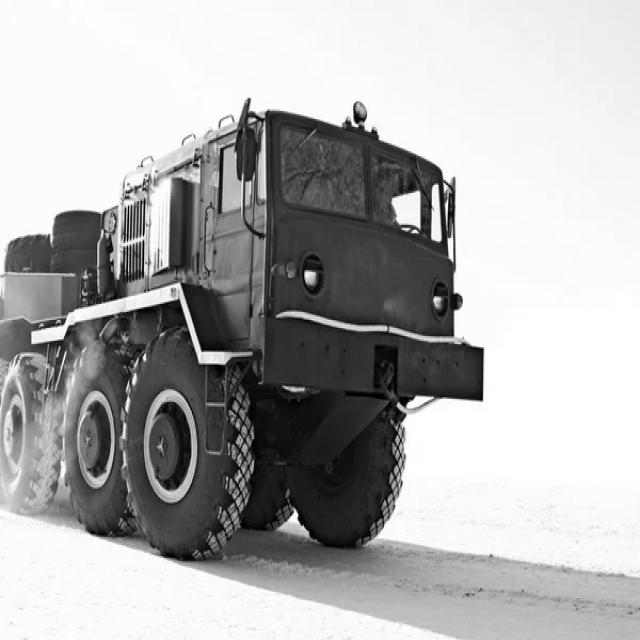Truck: (0, 101, 484, 558)
